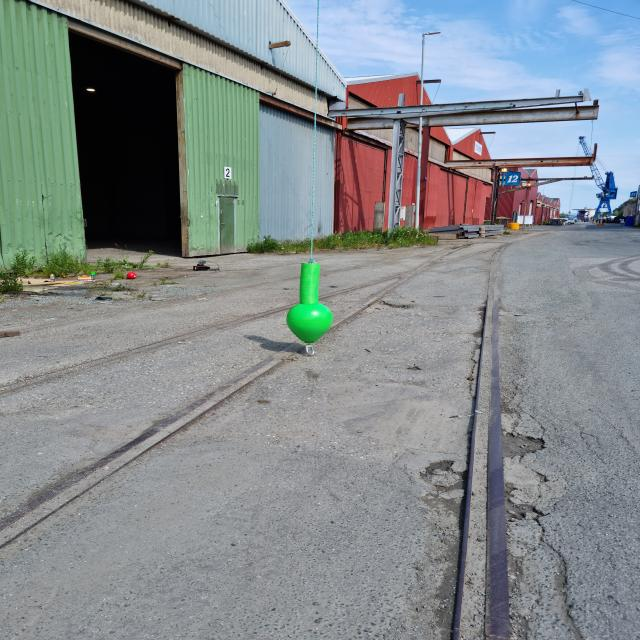green: (287, 264, 332, 343)
